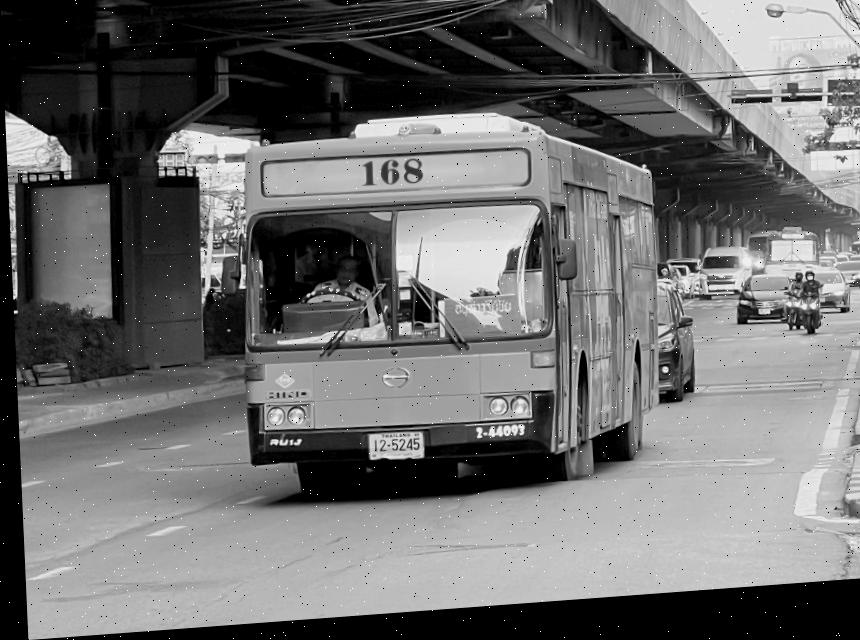BMTA-bus: (234, 128, 658, 500)
Bus Line Number: (356, 158, 425, 196)
Bus Side Number: (468, 428, 524, 451)
Destination Sign: (440, 300, 516, 344)
